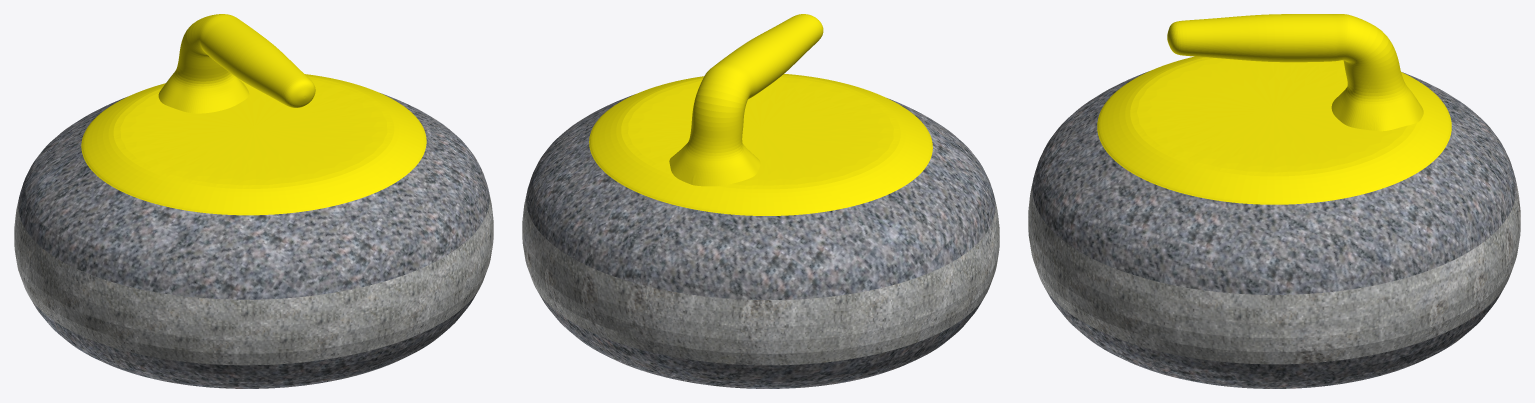
Rendered from YellowRock.obj.
3 views of the same model, side by side, from view 1: azimuth 30°, elevation 25°; view 2: azimuth 150°, elevation 25°; view 3: azimuth 270°, elevation 25° (orthographic). The views are drawn at different scales.
Parts seen in each view (by area): view 1: Cylinder; view 2: Cylinder; view 3: Cylinder.
Part boxes in pixels (x1,y1,x2,y2): Cylinder: [14, 14, 493, 388]; Cylinder: [522, 14, 999, 388]; Cylinder: [1028, 14, 1520, 388].
Size of the model in its own units: 1.98 by 1.28 by 1.9.
